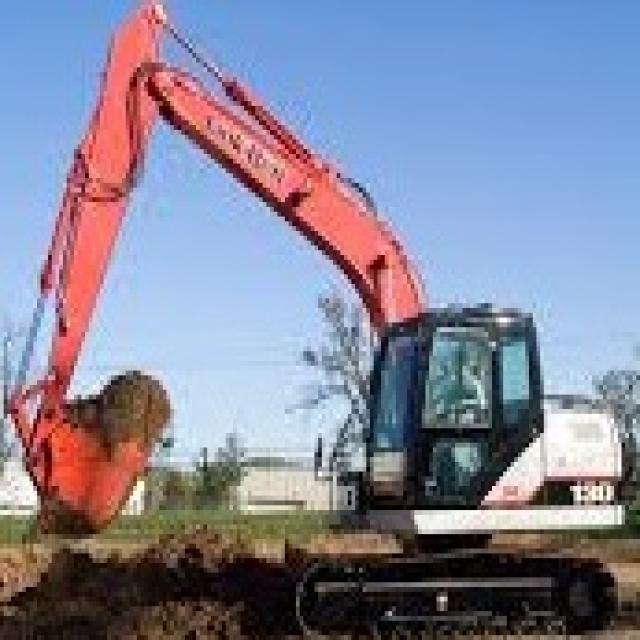excavator: (268, 290, 630, 624)
